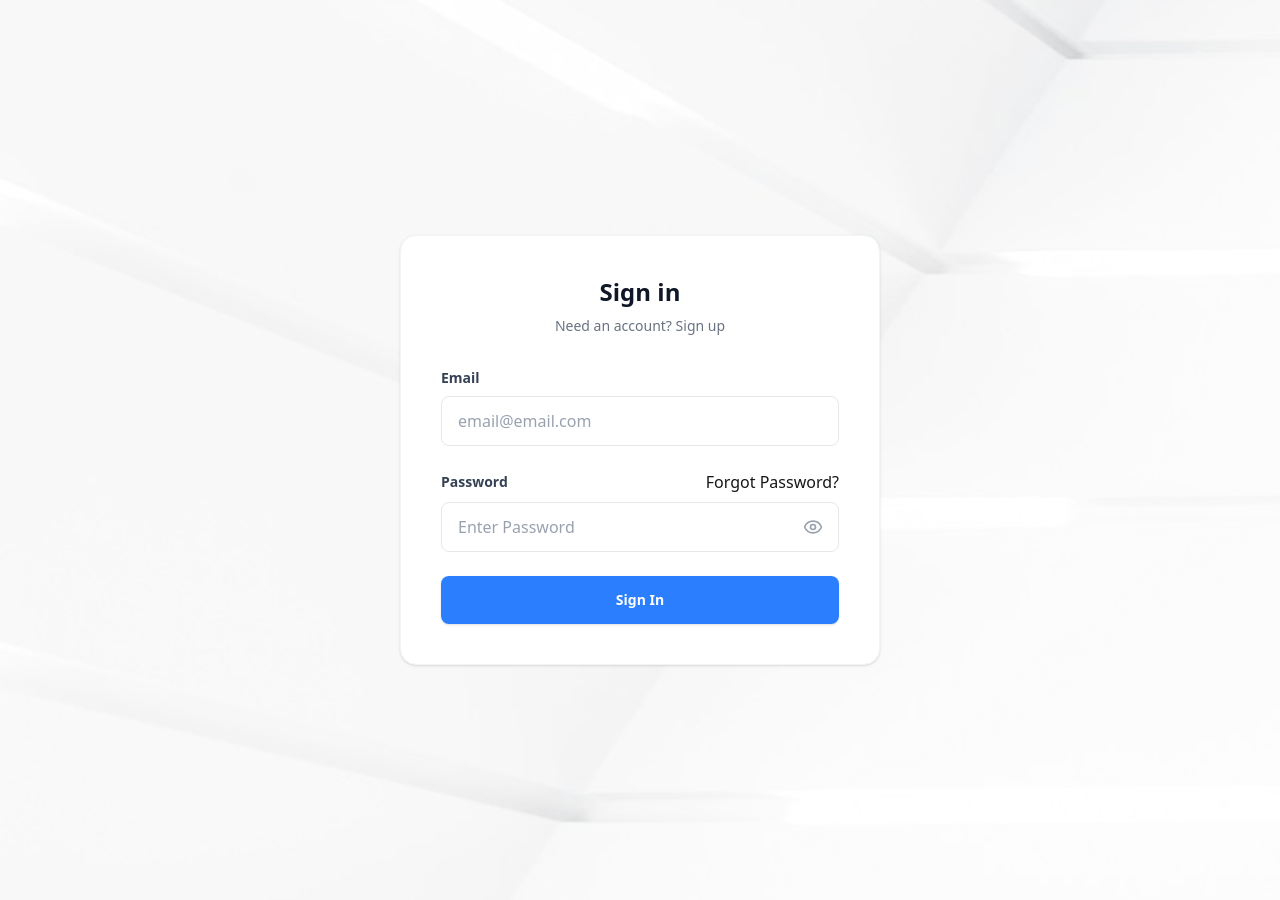
Test: Login Page › handles login error without message
Type "test@test.com" into the field with placeholder "email@email.com".
click(640, 421); type("test@test.com")  # box [441,396,839,446]
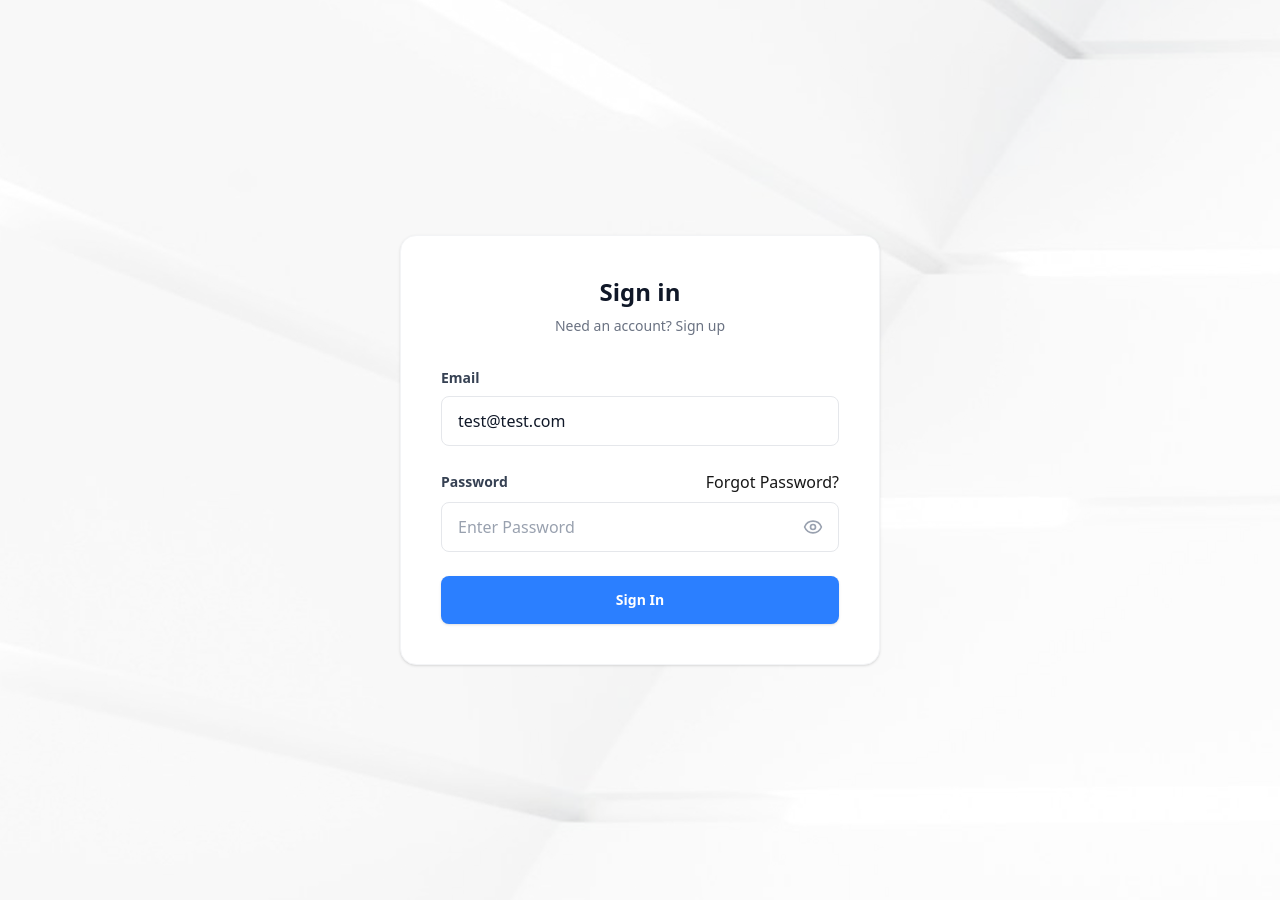
Type "wrongpassword" into the password field with placeholder "Enter Password".
click(640, 527); type("wrongpassword")  # box [441,502,839,552]
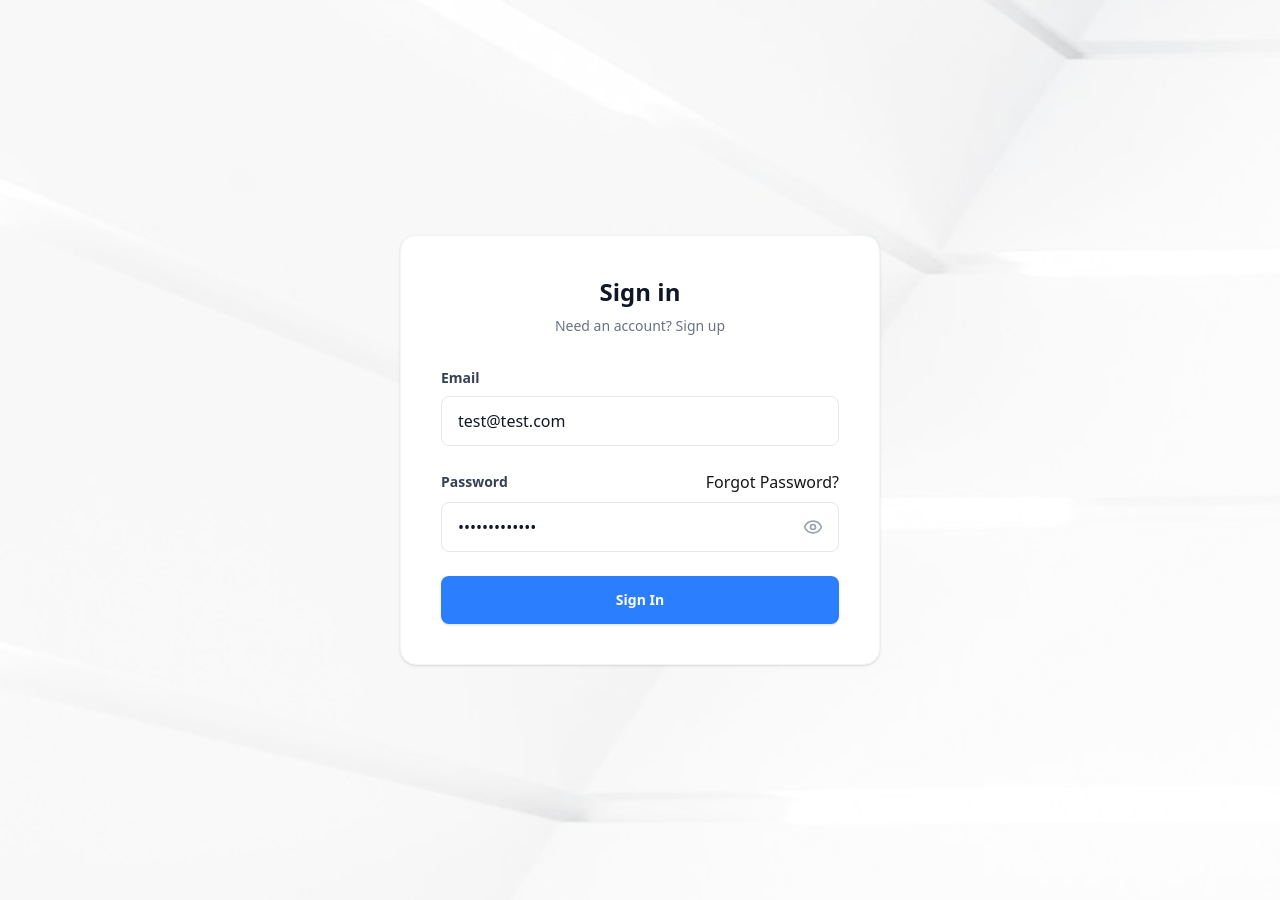
Click the button "Sign In".
click(640, 600)  # box [441,576,839,624]
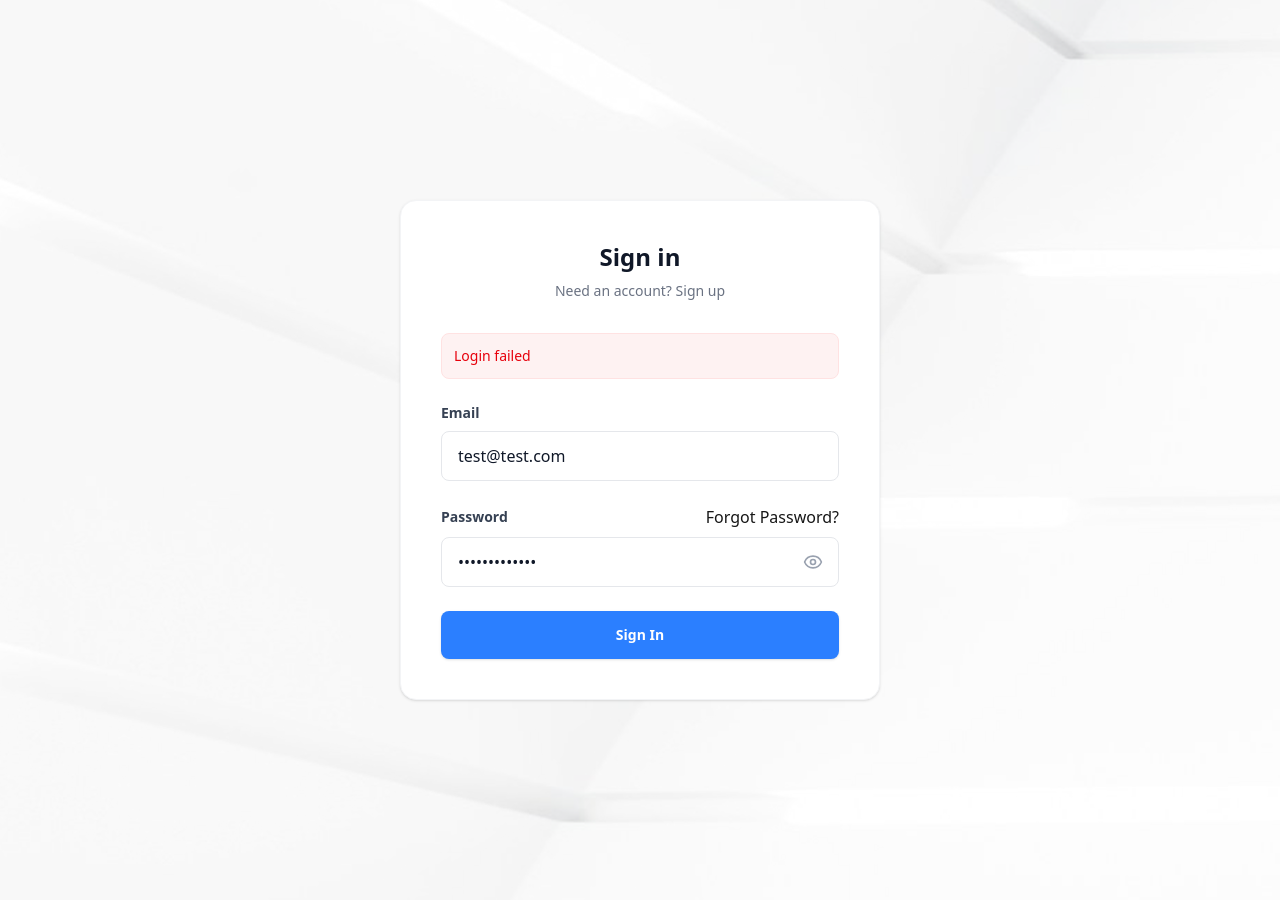
Expected: the text "Login failed" is shown, [441,333,839,379]
